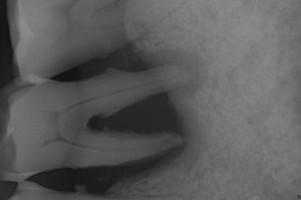Dental Caries: (86, 48, 209, 179)
